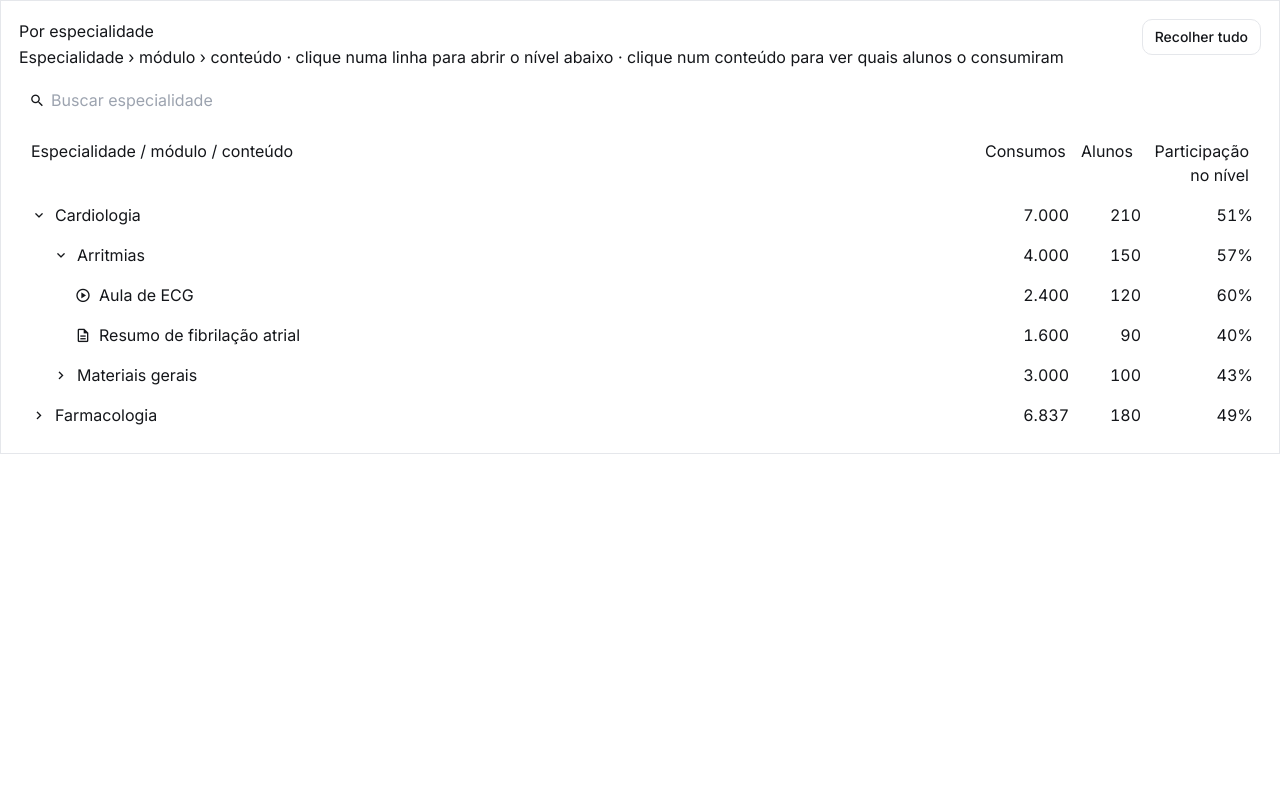
Scenario: AlunosDoConteudoDialog (§12.4) › sobretítulo "{especialidade} › {módulo}", título, resumo e colunas
Click the button with aria-label "Ver alunos que consumiram Aula de ECG" at (146, 295), box x1=99 y1=283 x2=194 y2=307
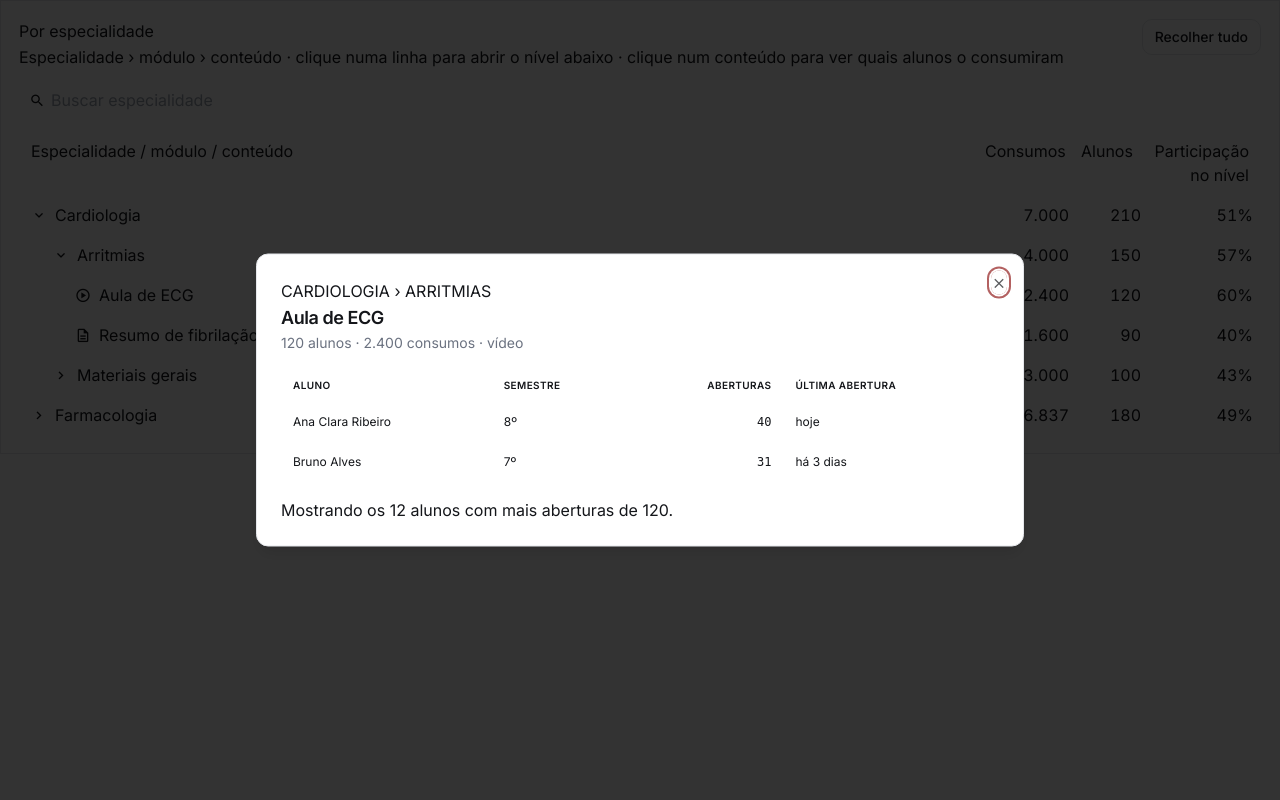
Result: the text "Cardiologia › Arritmias" is shown at x1=281 y1=280 x2=491 y2=300
Result: the heading "Aula de ECG" is shown at x1=281 y1=306 x2=384 y2=328
Result: the text "120 alunos · 2.400 consumos · vídeo" is shown at x1=281 y1=334 x2=523 y2=350
